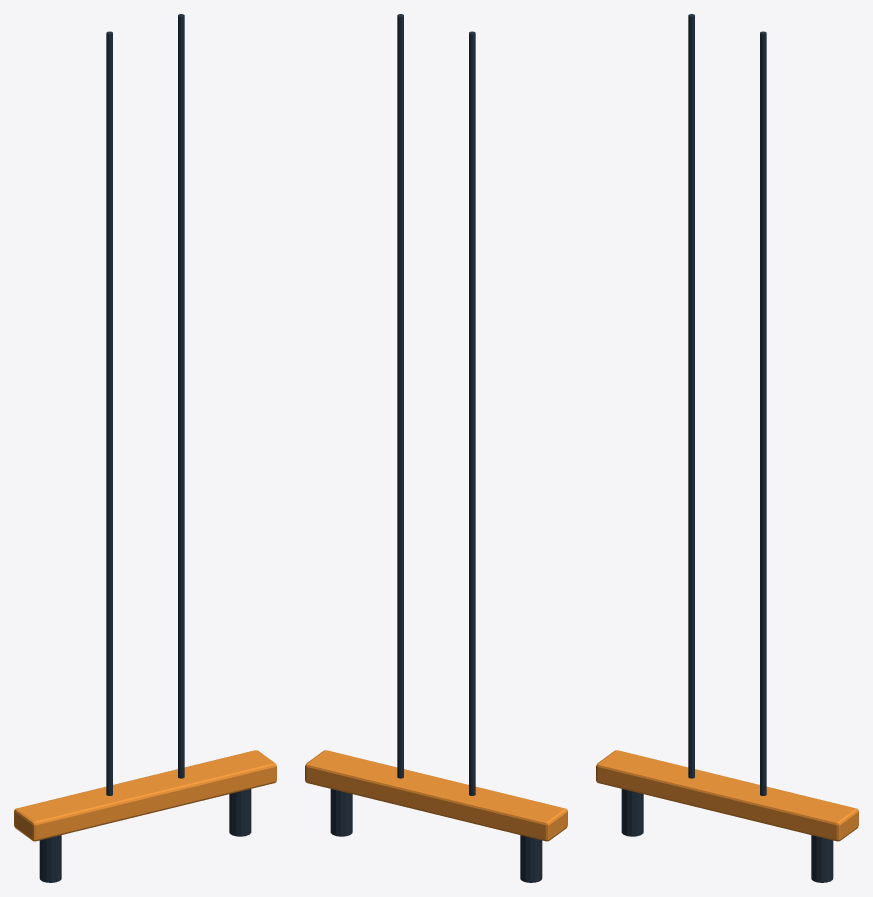
The model's file is rebar-gantry-hoist-v3-medium.glb.
3 renders of one model, left to right at view 1: azimuth 30°, elevation 25°; view 2: azimuth 150°, elevation 25°; view 3: azimuth 330°, elevation 25°, orthographic.
Parts seen in each view (by area): view 1: CR-02-lifting-beam.001, CR-02-cable.003, CR-02-cable.002, CR-02-hook.003, CR-02-hook.002; view 2: CR-02-lifting-beam.001, CR-02-cable.003, CR-02-cable.002, CR-02-hook.003, CR-02-hook.002; view 3: CR-02-lifting-beam.001, CR-02-cable.002, CR-02-cable.003, CR-02-hook.002, CR-02-hook.003.
Part boxes in pixels (x1,y1,x2,y2): CR-02-lifting-beam.001: (14, 750, 276, 841); CR-02-cable.003: (178, 14, 184, 778); CR-02-cable.002: (106, 31, 112, 795); CR-02-hook.003: (229, 789, 251, 836); CR-02-hook.002: (39, 835, 61, 882); CR-02-lifting-beam.001: (305, 750, 567, 841); CR-02-cable.003: (397, 14, 403, 778); CR-02-cable.002: (469, 31, 475, 795); CR-02-hook.003: (330, 789, 352, 836); CR-02-hook.002: (520, 835, 542, 882); CR-02-lifting-beam.001: (596, 750, 858, 841); CR-02-cable.002: (688, 14, 694, 778); CR-02-cable.003: (760, 31, 766, 795); CR-02-hook.002: (621, 789, 643, 836); CR-02-hook.003: (811, 835, 833, 882).
Size of the model in its own units: 5.8 by 18.84 by 0.85.
